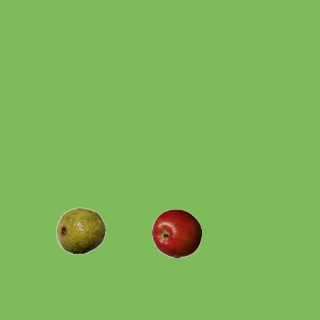Apple Braeburn: (151, 208, 201, 258)
Guava: (55, 205, 105, 255)
